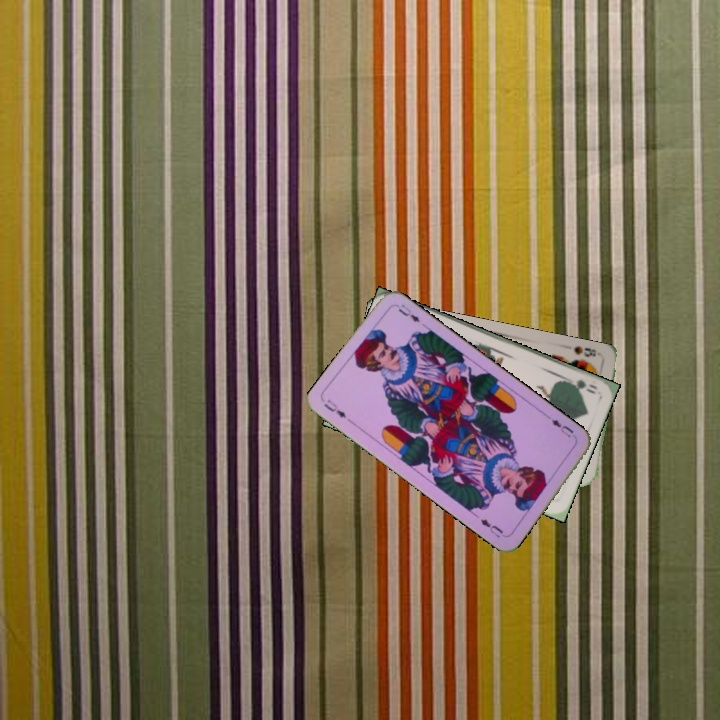EU: (544, 412, 576, 440), (320, 395, 349, 421)
GO: (560, 373, 600, 397)
S8: (570, 342, 599, 360)
